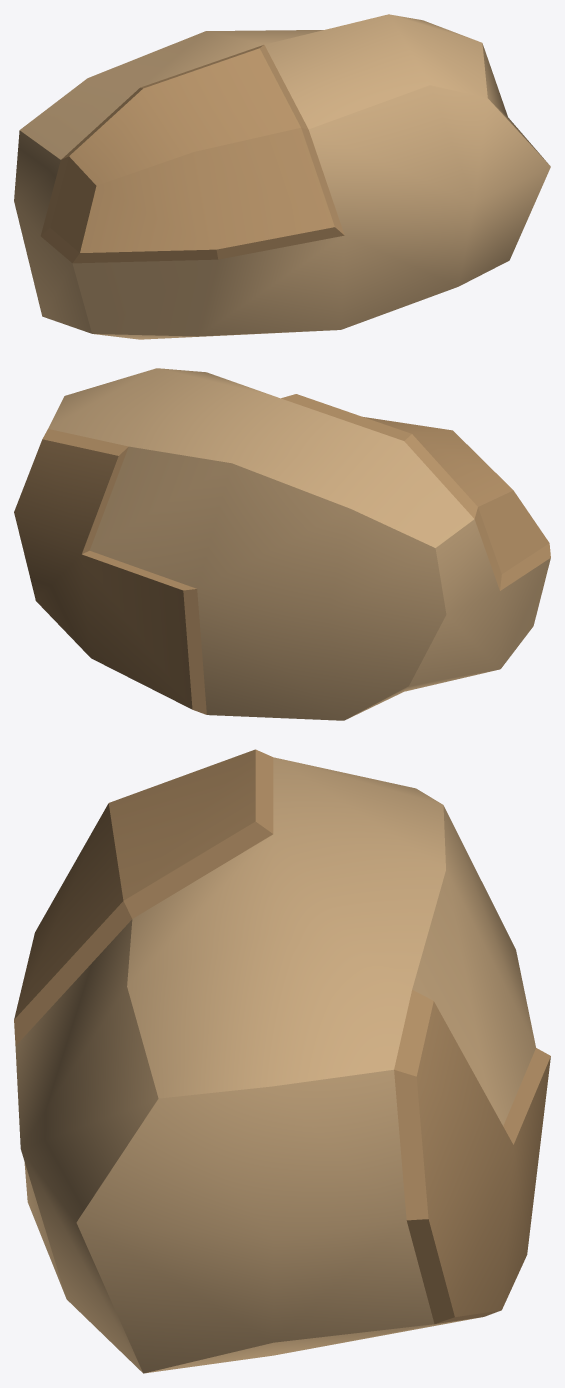
Rendered from Stone_Temple_01.fbx.
The picture shows the model from 3 angles, top to bottom: view 1: azimuth 30°, elevation 25°; view 2: azimuth 150°, elevation 25°; view 3: azimuth 270°, elevation 25°; orthographic projection. The views are drawn at different scales.
Visible parts, largest first — view 1: Stone_001; view 2: Stone_001; view 3: Stone_001.
Part boxes in pixels (x1,y1,x2,y2): Stone_001: [14, 14, 550, 339]; Stone_001: [14, 368, 550, 720]; Stone_001: [14, 749, 550, 1373].
Bounding box in the file's own units: 107 × 57.62 × 65.3.
1 material, 1 textured.
